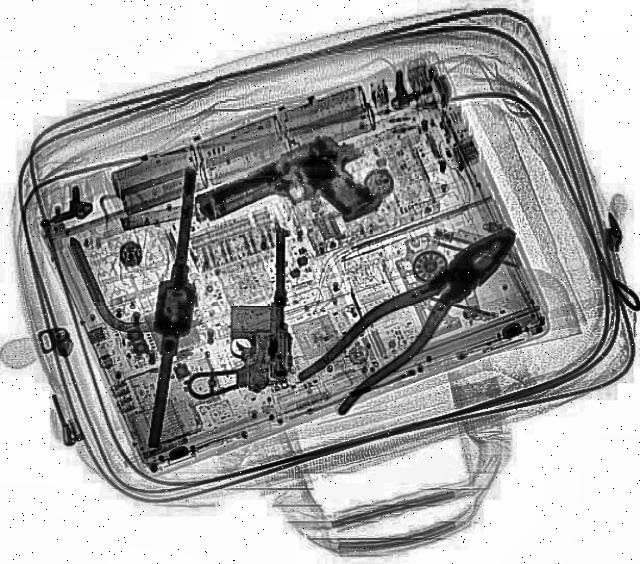Gun: (187, 124, 396, 268), (188, 232, 292, 398)
Pliers: (289, 209, 537, 419)
